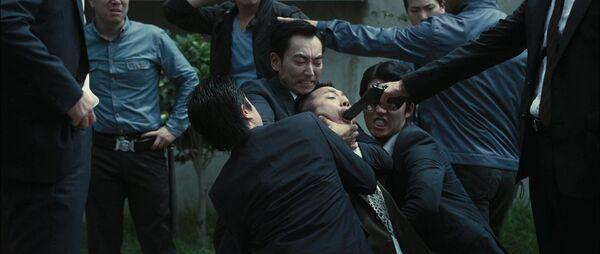Gun: (340, 78, 388, 122)
